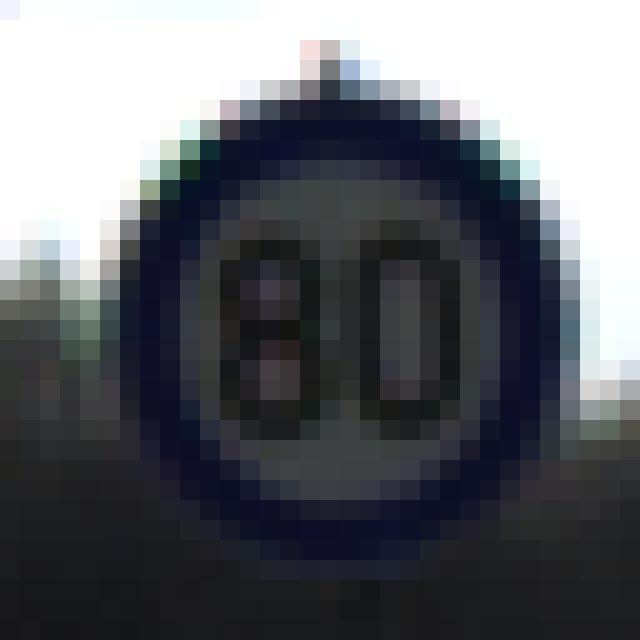SPEED-LIMIT-80: (109, 101, 572, 547)
